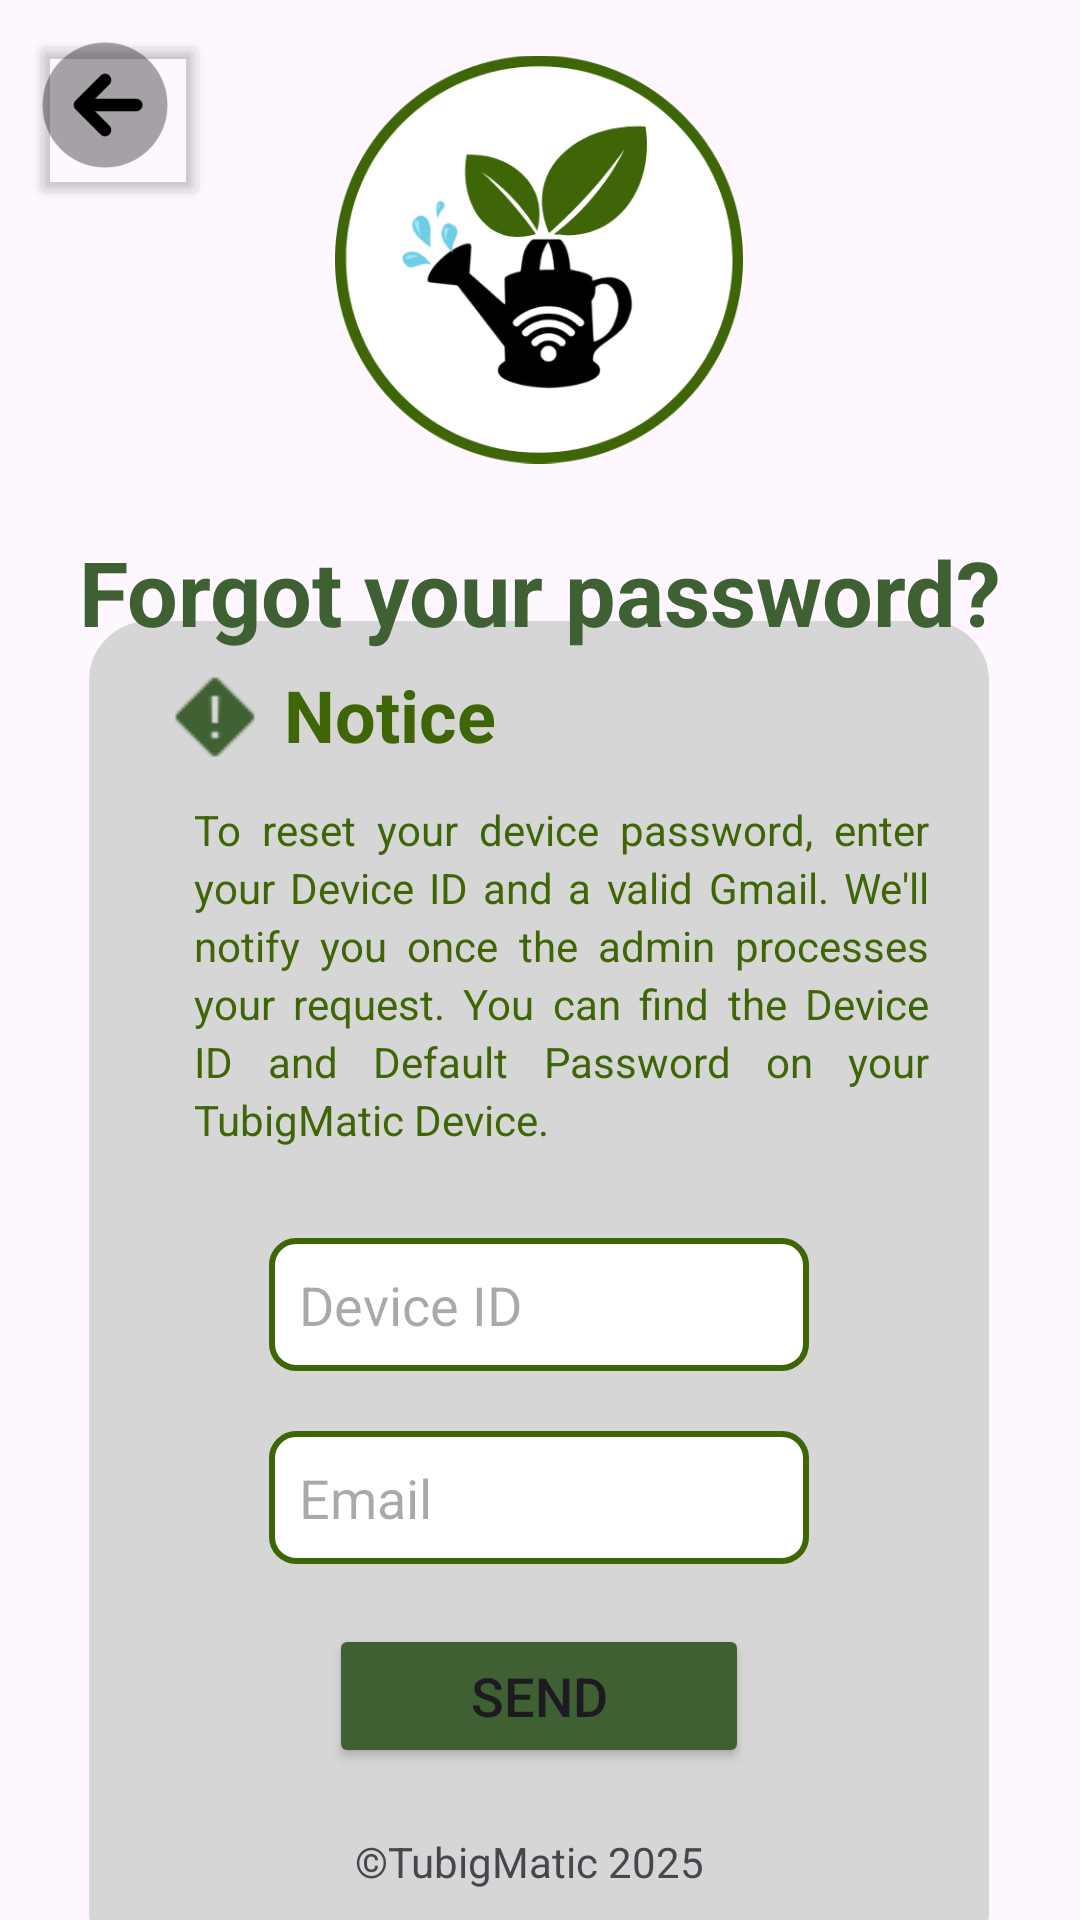

Where icons sit on this 1080 × 1920 app screen, as [x1=x1, y1=y1, x2=x2, y2=y2]:
backbutton: [x1=41, y1=42, x2=180, y2=180]
